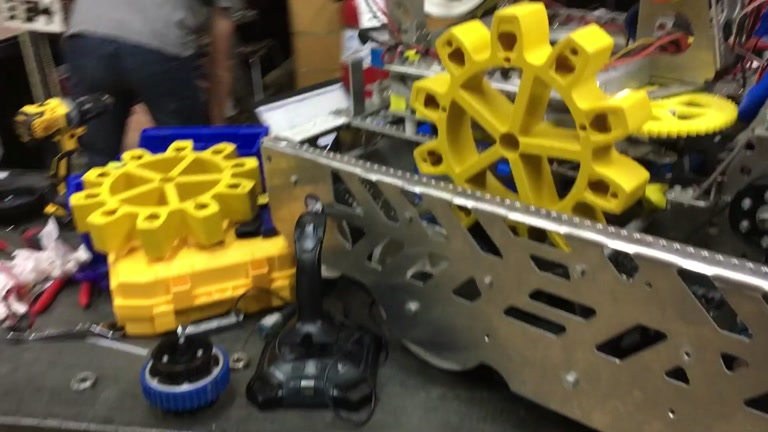gear: (408, 1, 651, 260), (67, 138, 263, 258)
